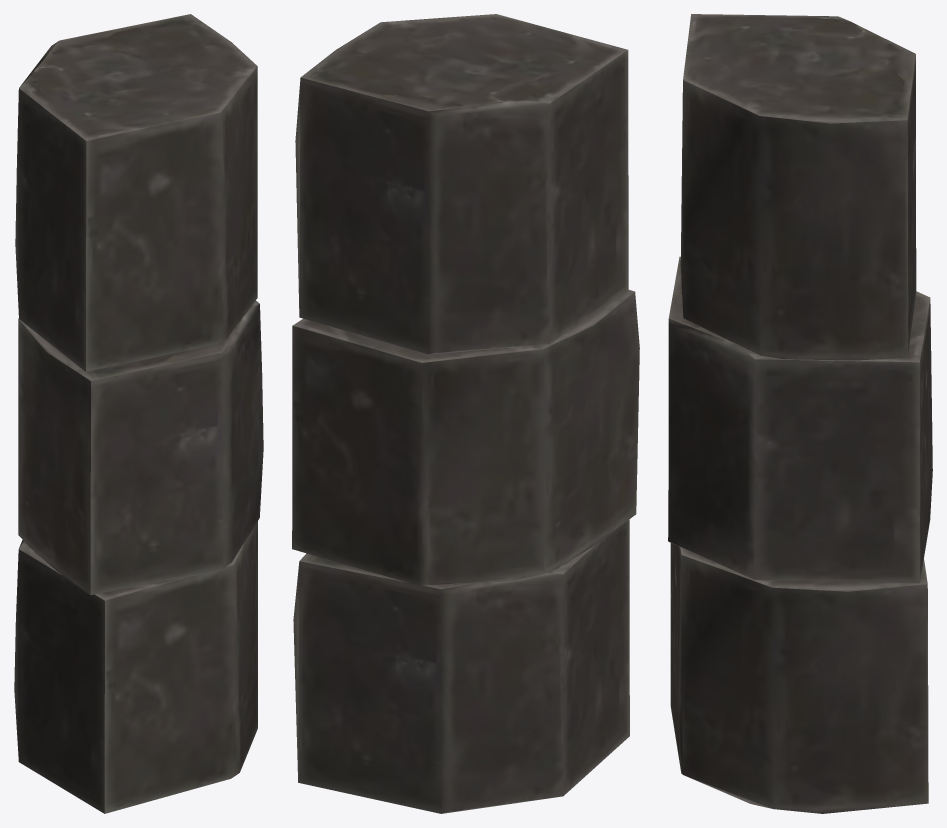
The picture shows the model from 3 angles, left to right: view 1: azimuth 30°, elevation 25°; view 2: azimuth 150°, elevation 25°; view 3: azimuth 270°, elevation 25°; orthographic projection. The views are drawn at different scales.
Visible parts, largest first — view 1: SM_Greathall_WallCap_10m_02_LOD0; view 2: SM_Greathall_WallCap_10m_02_LOD0; view 3: SM_Greathall_WallCap_10m_02_LOD0.
Boxes of the visible parts, box(x1,y1,x2,y2) form: SM_Greathall_WallCap_10m_02_LOD0: box(14, 14, 263, 813); SM_Greathall_WallCap_10m_02_LOD0: box(292, 14, 639, 813); SM_Greathall_WallCap_10m_02_LOD0: box(668, 14, 932, 813).
Bounding box in the file's own units: 2.13 × 6.22 × 2.13.
